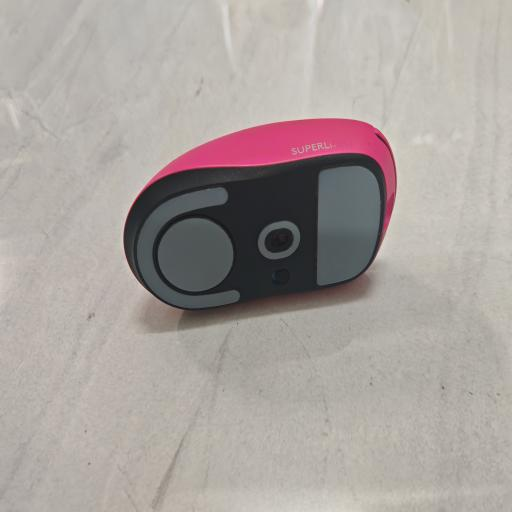mouse: (124, 119, 396, 309)
